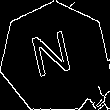N_S: (30, 29, 80, 87)
